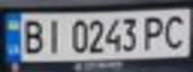0: (66, 16, 90, 54)
2: (84, 16, 109, 55)
3: (121, 15, 142, 52)
4: (103, 16, 127, 53)
B: (15, 16, 48, 55)
C: (160, 11, 193, 51)
I: (39, 16, 66, 54)
P: (139, 12, 172, 51)
